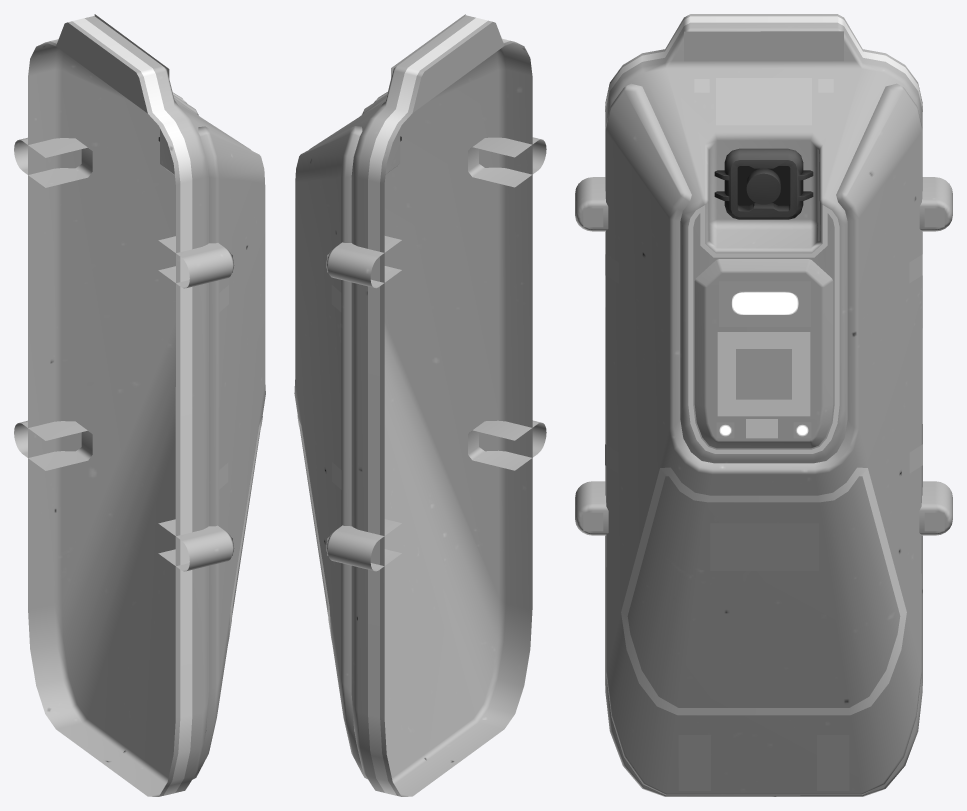
The model's file is SM_WallPump_Merged.fbx.
3 views of the same model, side by side, from view 1: azimuth 30°, elevation 25°; view 2: azimuth 150°, elevation 25°; view 3: azimuth 270°, elevation 25° (orthographic). The views are drawn at different scales.
Parts seen in each view (by area): view 1: SM_WallPump_Merged_LOD0; view 2: SM_WallPump_Merged_LOD0; view 3: SM_WallPump_Merged_LOD0.
Part boxes in pixels (x1=…): SM_WallPump_Merged_LOD0: x1=14, y1=14, x2=265, y2=796; SM_WallPump_Merged_LOD0: x1=294, y1=14, x2=546, y2=796; SM_WallPump_Merged_LOD0: x1=575, y1=14, x2=952, y2=796.
Size of the model in its own units: 30.22 by 70.42 by 158.
